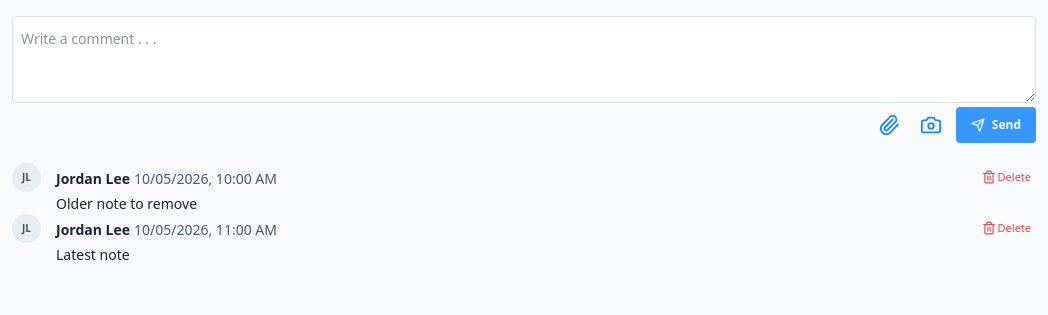
WorkOrderActivity › keeps an older loaded comment tombstone visible after deleting it
Click the button with aria-label "Delete comment" at {"x": 1006, "y": 177}, box [977, 163, 1036, 191]
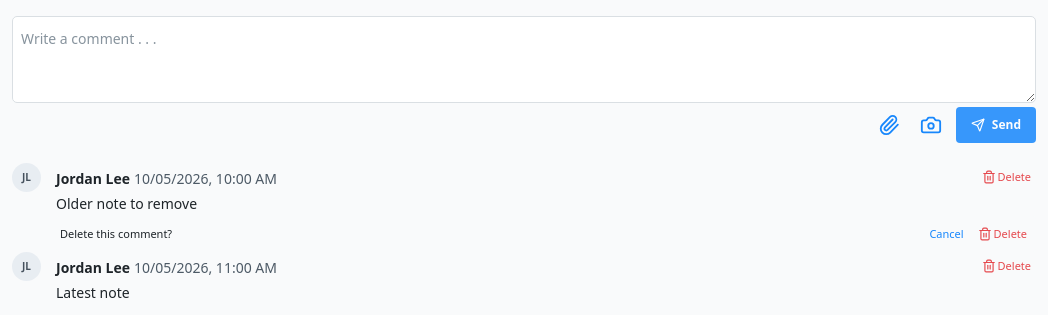
Click the button "Delete" in the row of "Delete this comment?" at {"x": 1002, "y": 234}, box [973, 220, 1032, 248]
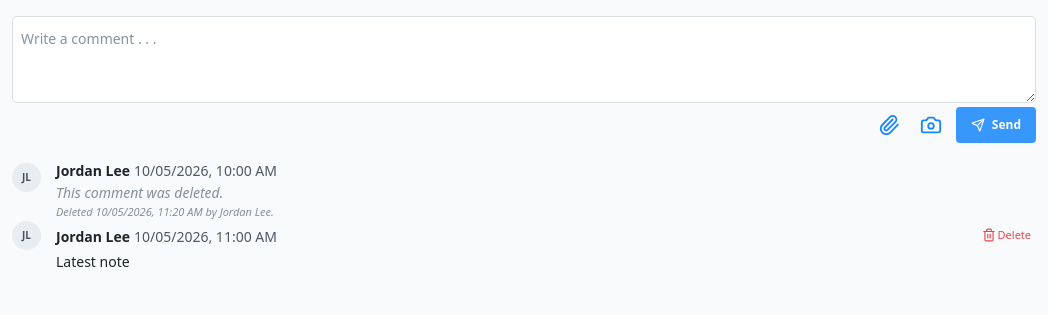
Check: the text "This comment was deleted." is shown, box [56, 183, 223, 202]
